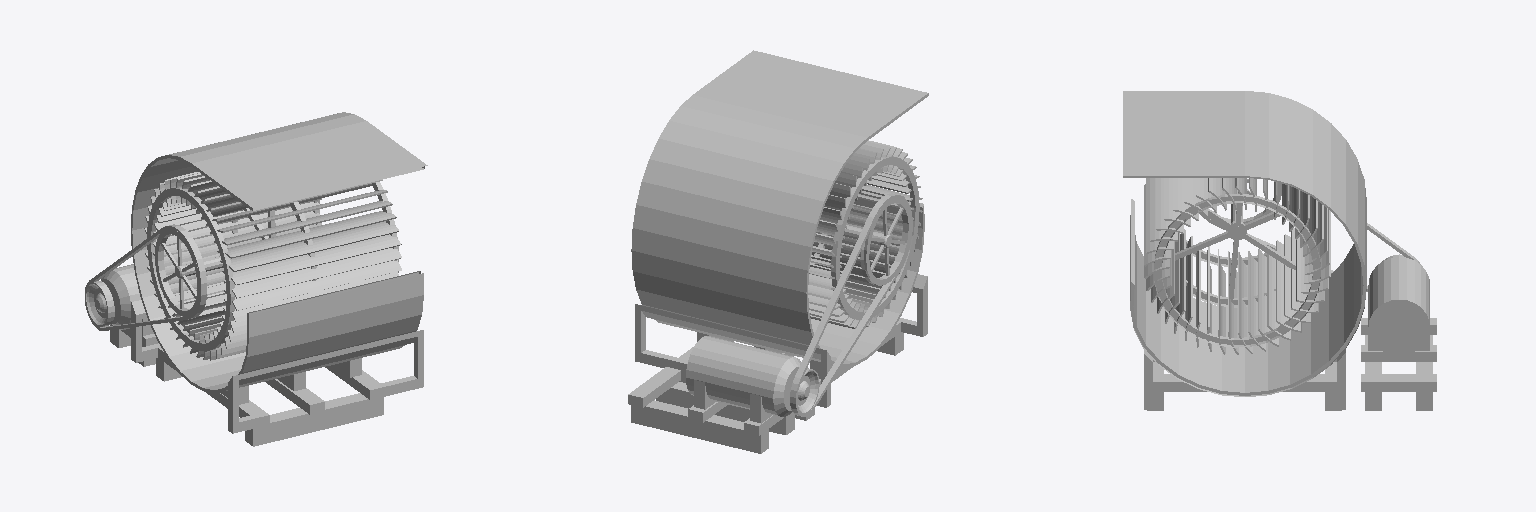
The model's file is fan.obj.
3 views of the same model, side by side, from view 1: azimuth 30°, elevation 25°; view 2: azimuth 150°, elevation 25°; view 3: azimuth 270°, elevation 25° (orthographic).
Parts seen in each view (by area): view 1: Fan_FanGeom; view 2: Fan_FanGeom; view 3: Fan_FanGeom.
Part boxes in pixels (x1,y1,x2,y2): Fan_FanGeom: (85,112,427,446); Fan_FanGeom: (628,50,928,453); Fan_FanGeom: (1123,91,1436,410).
Bounding box in the file's own units: 1.26 × 1.51 × 1.72.